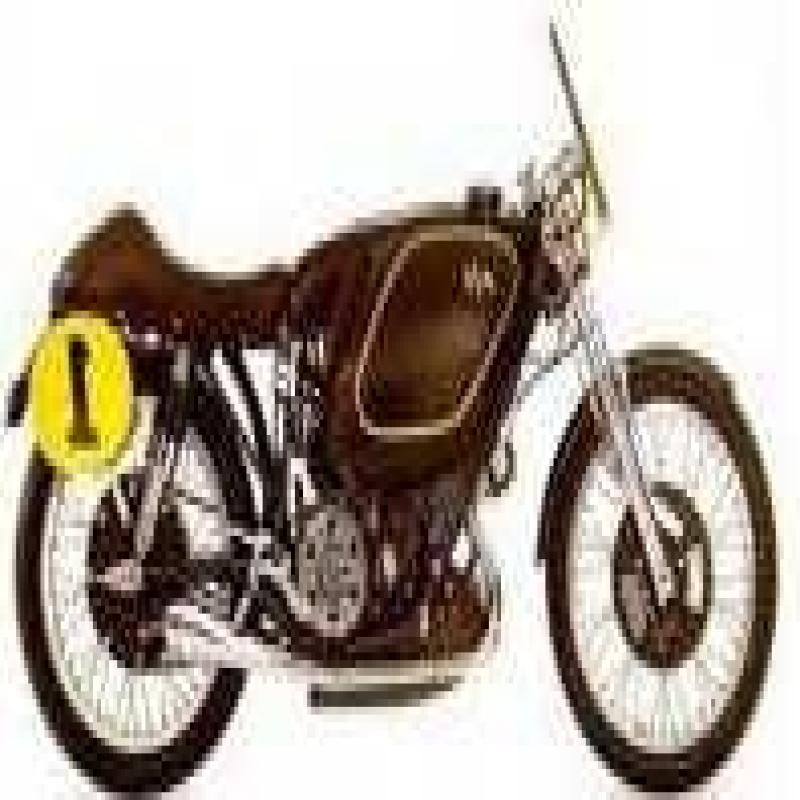bike: (31, 4, 762, 800)
